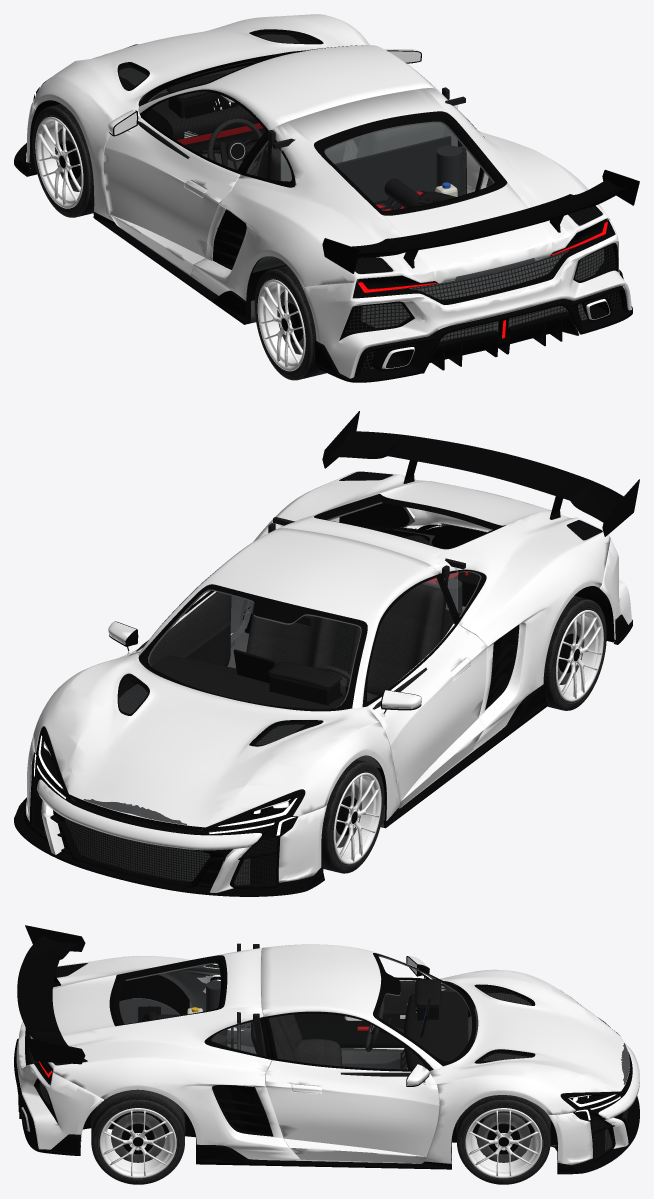
3 renders of one model, top to bottom at view 1: azimuth 30°, elevation 25°; view 2: azimuth 150°, elevation 25°; view 3: azimuth 270°, elevation 25°, orthographic. The views are drawn at different scales.
Visible parts, largest first — view 1: body, bumper.r, door.fl, hood, trim.wing, wheel.rl, wheel.fl, door.fr; view 2: body, hood, bumper.f, door.fl, trim.wing, bumper.r, wheel.fl, wheel.rl, door.fr; view 3: body, door.fr, hood, wheel.rr, bumper.r, trim.wing, wheel.fr, door.fl, bumper.f.
Boxes of the visible parts, x1,y1,x2,y2 form: body: (26, 14, 621, 370); bumper.r: (303, 219, 632, 382); door.fl: (103, 89, 268, 274); hood: (74, 19, 308, 88); trim.wing: (322, 169, 639, 273); wheel.rl: (254, 265, 326, 380); wheel.fl: (32, 104, 94, 217); door.fr: (385, 49, 480, 193); body: (26, 471, 614, 885); hood: (65, 678, 308, 809); bumper.f: (14, 768, 324, 896); door.fl: (362, 574, 487, 808); trim.wing: (322, 411, 639, 536); bumper.r: (330, 502, 632, 644); wheel.fl: (321, 759, 384, 873); wheel.rl: (543, 596, 606, 710); door.fr: (108, 569, 231, 666); body: (28, 943, 629, 1169); door.fr: (264, 1011, 439, 1163); hood: (474, 990, 609, 1087); wheel.rr: (91, 1089, 185, 1184); bumper.r: (14, 1021, 103, 1155); trim.wing: (17, 925, 85, 1064); wheel.fr: (456, 1095, 550, 1184); door.fl: (294, 956, 430, 1049); bumper.f: (557, 1043, 639, 1174).
Bounding box in the file's own units: 2.21 × 1.28 × 4.7.
35 materials, 14 textured.
